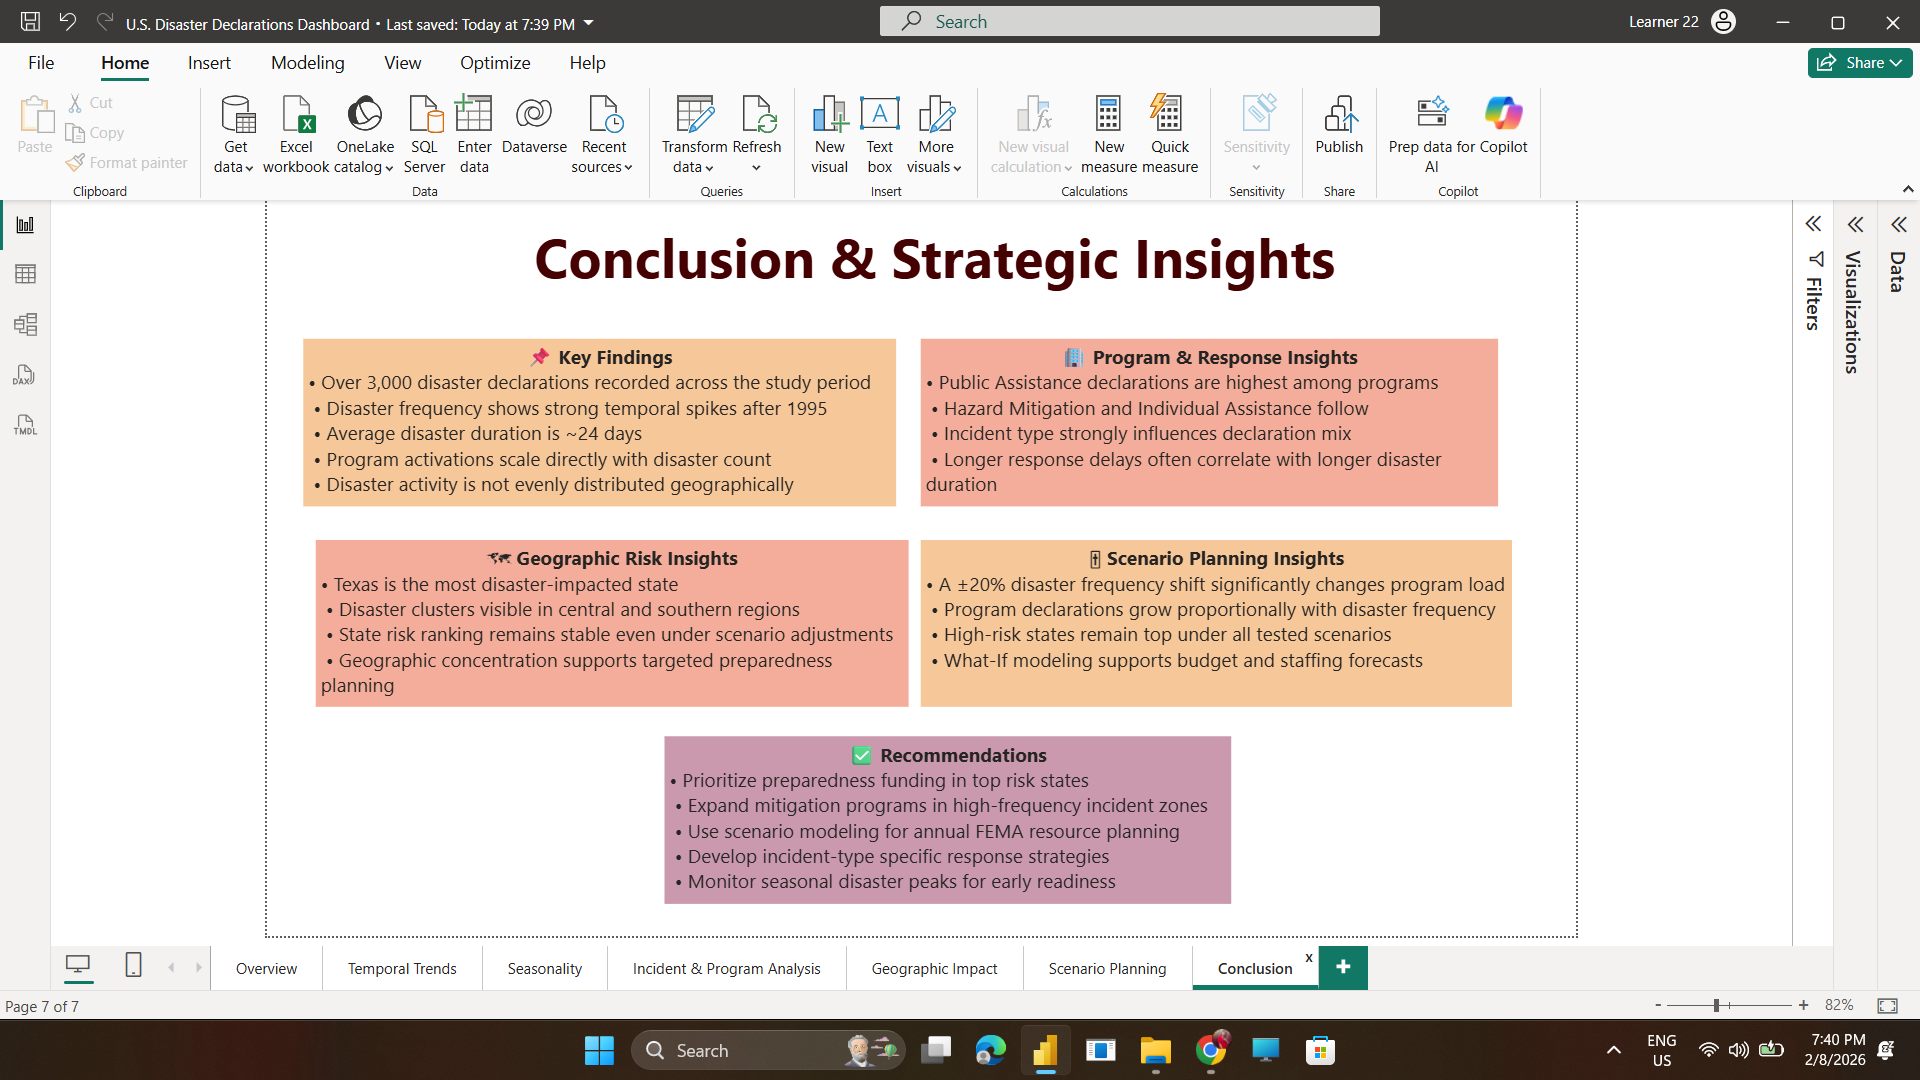

What the dashboard file says about the page in this screenshot:
{"tool":"powerbi","page":{"name":"Conclusion","canvas":[1280,720],"ordinal":6},"visuals":[{"type":"textbox","box":[221.4,12.9,864.3,82.9],"z":0},{"type":"textbox","box":[35.7,135.7,580,164.3],"z":1000},{"type":"textbox","box":[47.1,332.9,580,162.9],"z":2000},{"type":"textbox","box":[639.5,135.7,564.9,163.9],"z":3000},{"type":"textbox","box":[640,332.9,578.6,162.9],"z":4000},{"type":"textbox","box":[388.6,524.3,554.3,164.3],"z":5000}]}

Visuals, with their boxes on the page's 1280x720 design canvas (x1, y1, x2, y2). These are canvas units, not pixel positions in the 1920x1080 screenshot, which may show the page scaled, cropped or inside an application window:
textbox: Rect(221, 13, 1086, 96)
textbox: Rect(36, 136, 616, 300)
textbox: Rect(47, 333, 627, 496)
textbox: Rect(640, 136, 1204, 300)
textbox: Rect(640, 333, 1219, 496)
textbox: Rect(389, 524, 943, 689)
